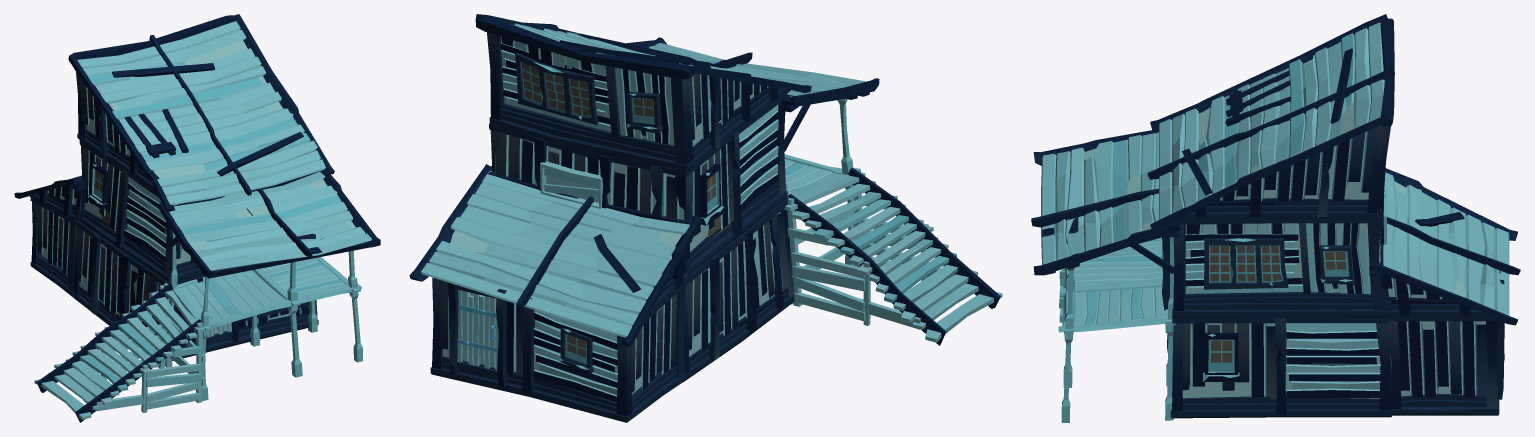
File: SM_Bld_Shanty_Preset_04.glb
3 renders of one model, left to right at view 1: azimuth 30°, elevation 25°; view 2: azimuth 150°, elevation 25°; view 3: azimuth 270°, elevation 25°, orthographic. The views are drawn at different scales.
Parts seen in each view (by area): view 1: SM_Bld_Shanty_Preset_04; view 2: SM_Bld_Shanty_Preset_04; view 3: SM_Bld_Shanty_Preset_04.
Part boxes in pixels (bbox=[...]): SM_Bld_Shanty_Preset_04: bbox=[14, 14, 380, 422]; SM_Bld_Shanty_Preset_04: bbox=[409, 14, 1002, 422]; SM_Bld_Shanty_Preset_04: bbox=[1031, 14, 1520, 422].
Bounding box in the file's own units: 0.0934 × 0.0785 × 0.1113.
